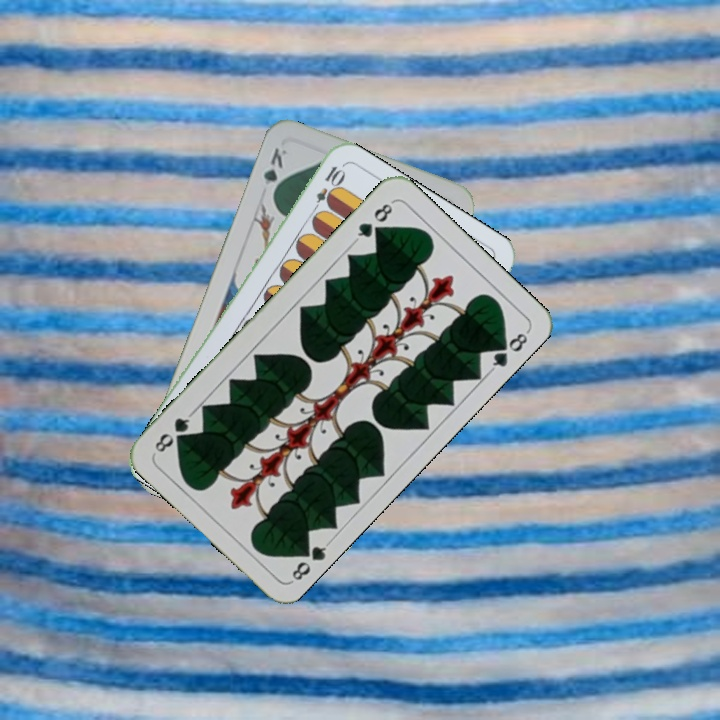E10: (307, 162, 346, 217)
G8: (287, 538, 333, 585), (351, 197, 396, 244)
GK: (259, 143, 290, 201)
